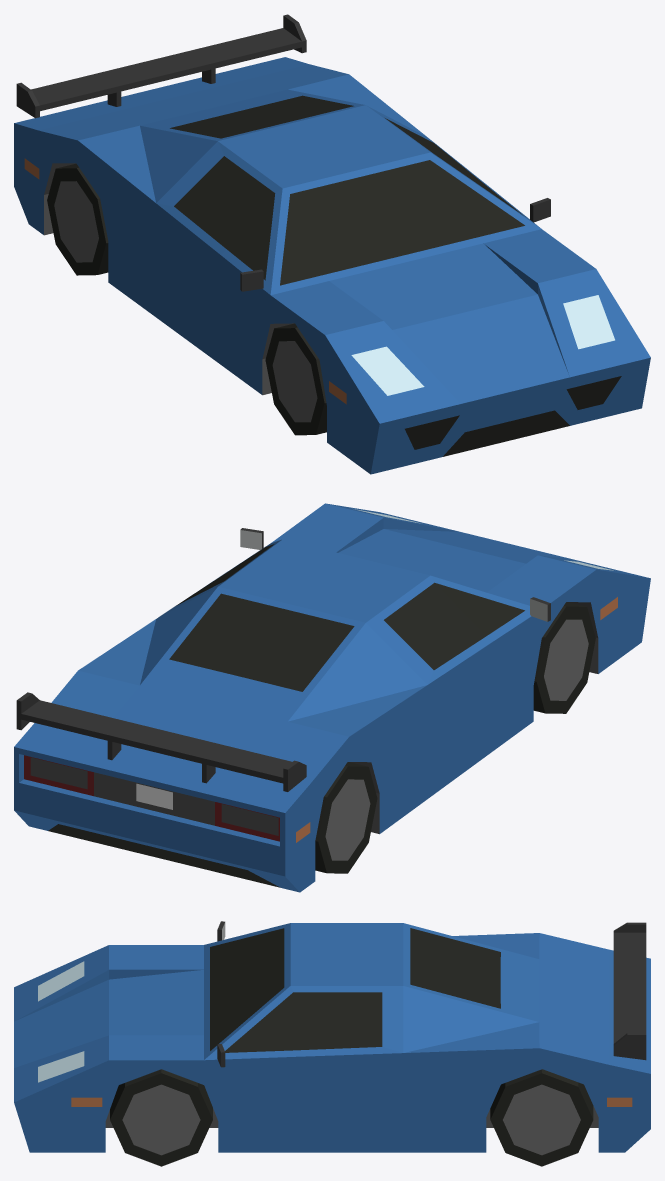
The model's file is Veh_Sports_Car_03_Blue.obj.
3 renders of one model, top to bottom at view 1: azimuth 30°, elevation 25°; view 2: azimuth 150°, elevation 25°; view 3: azimuth 270°, elevation 25°, orthographic. The views are drawn at different scales.
Bounding box in the file's own units: 1.25 × 0.6867 × 2.56.
